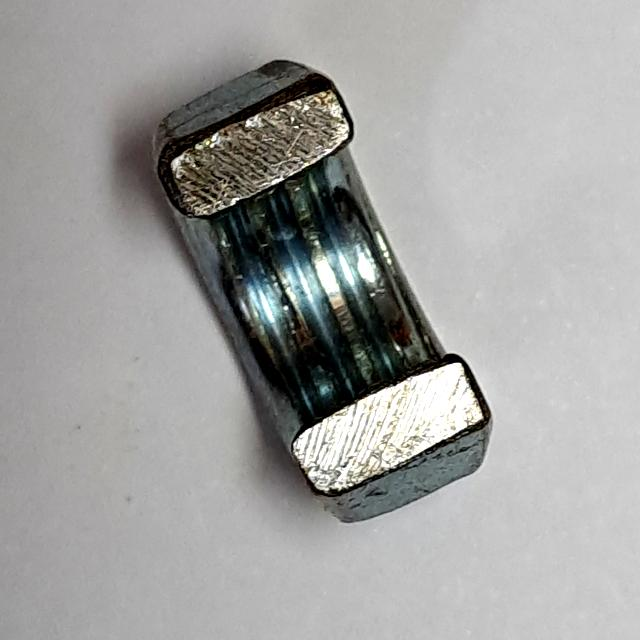Side-Fracture: (135, 40, 518, 547)
